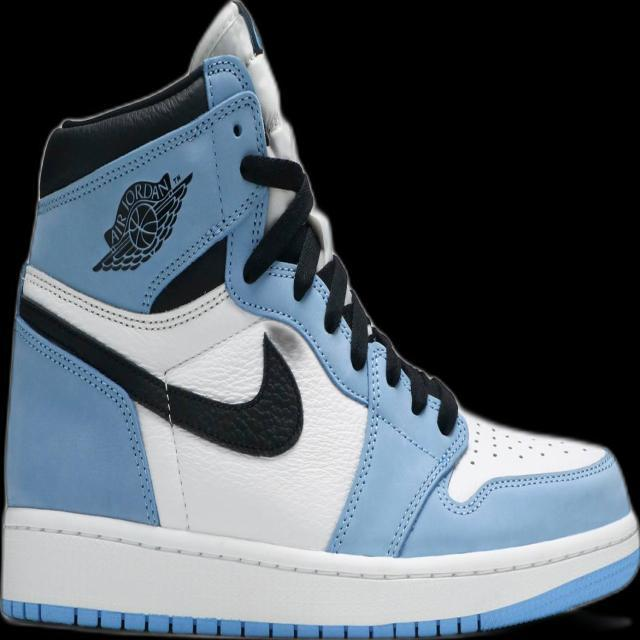J1_InsoleChar: (1, 1, 637, 637)
J1_ShoeLogo: (90, 169, 193, 273)
J1_StitchPattern: (196, 53, 470, 554), (238, 152, 461, 436), (1, 511, 637, 585), (13, 311, 305, 459), (12, 314, 162, 526), (37, 88, 263, 213), (313, 251, 460, 434), (1, 599, 484, 637), (19, 264, 230, 333), (325, 335, 386, 554), (382, 419, 469, 558), (464, 416, 603, 470)
